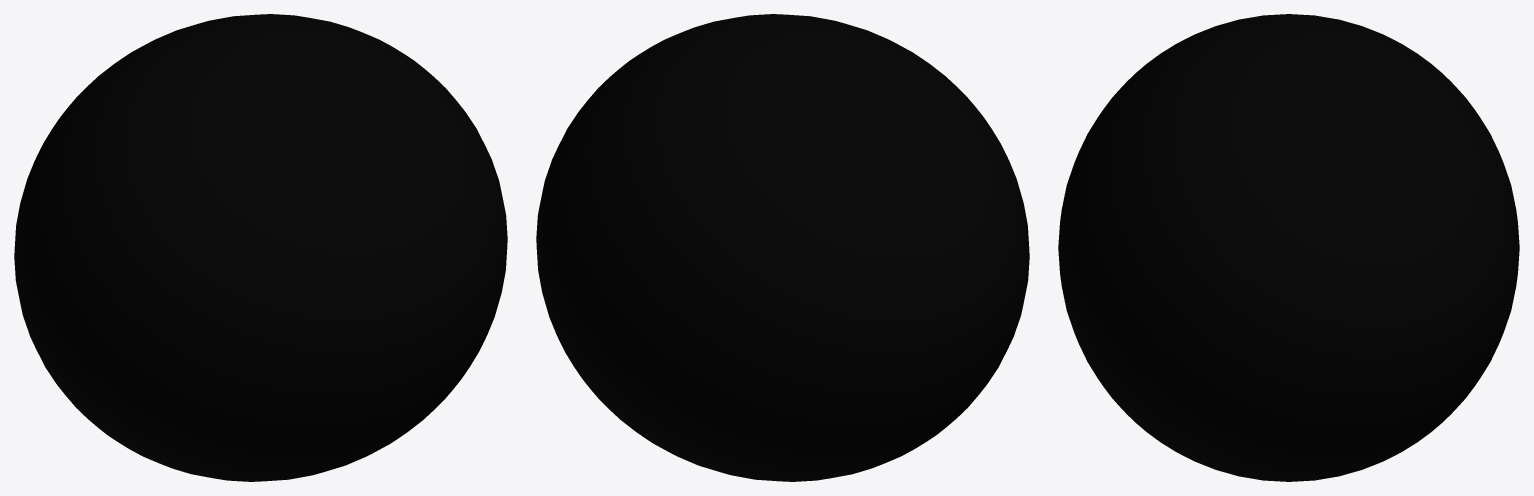
Rendered from Puzzle Unlock.fbx.
3 renders of one model, left to right at view 1: azimuth 30°, elevation 25°; view 2: azimuth 150°, elevation 25°; view 3: azimuth 270°, elevation 25°, orthographic.
Visible parts, largest first — view 1: root; view 2: root; view 3: root.
Part boxes in pixels (x1,y1,x2,y2): root: (14,14,507,481); root: (536,14,1029,481); root: (1058,14,1519,481).
Size of the model in its own units: 1.3 by 1.21 by 1.21.
1 material, 1 textured.
